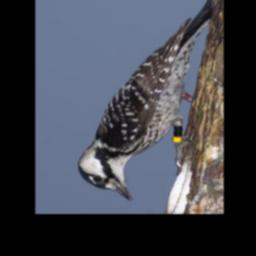Woodpecker: (76, 0, 216, 203)
